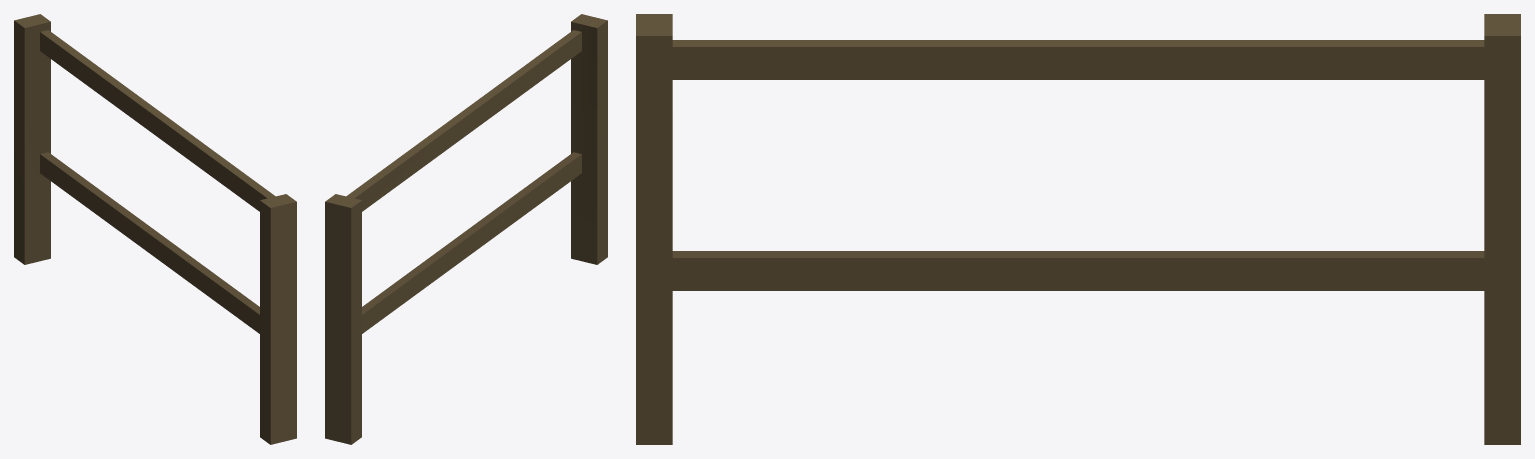
Rendered from Wood_FenceThinShort.fbx.
The picture shows the model from 3 angles, left to right: view 1: azimuth 30°, elevation 25°; view 2: azimuth 150°, elevation 25°; view 3: azimuth 270°, elevation 25°; orthographic projection. The views are drawn at different scales.
Parts seen in each view (by area): view 1: Wood_FenceThinShort; view 2: Wood_FenceThinShort; view 3: Wood_FenceThinShort.
Part boxes in pixels (bbox=[...]): Wood_FenceThinShort: bbox=[14, 14, 296, 444]; Wood_FenceThinShort: bbox=[325, 14, 607, 444]; Wood_FenceThinShort: bbox=[636, 14, 1520, 444].
Size of the model in its own units: 0.0103 by 0.0882 by 0.1731.
